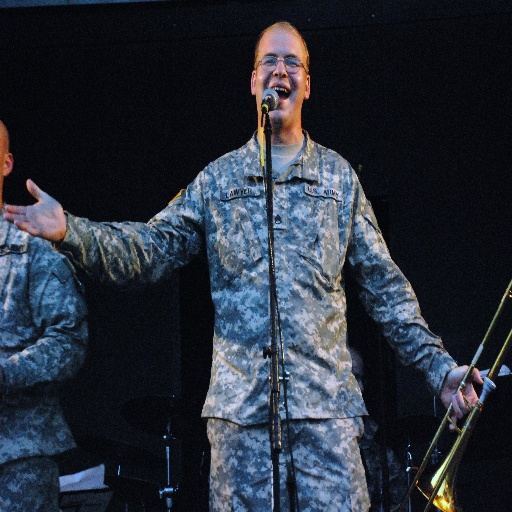hand: (8, 171, 70, 247), (438, 365, 485, 432)
